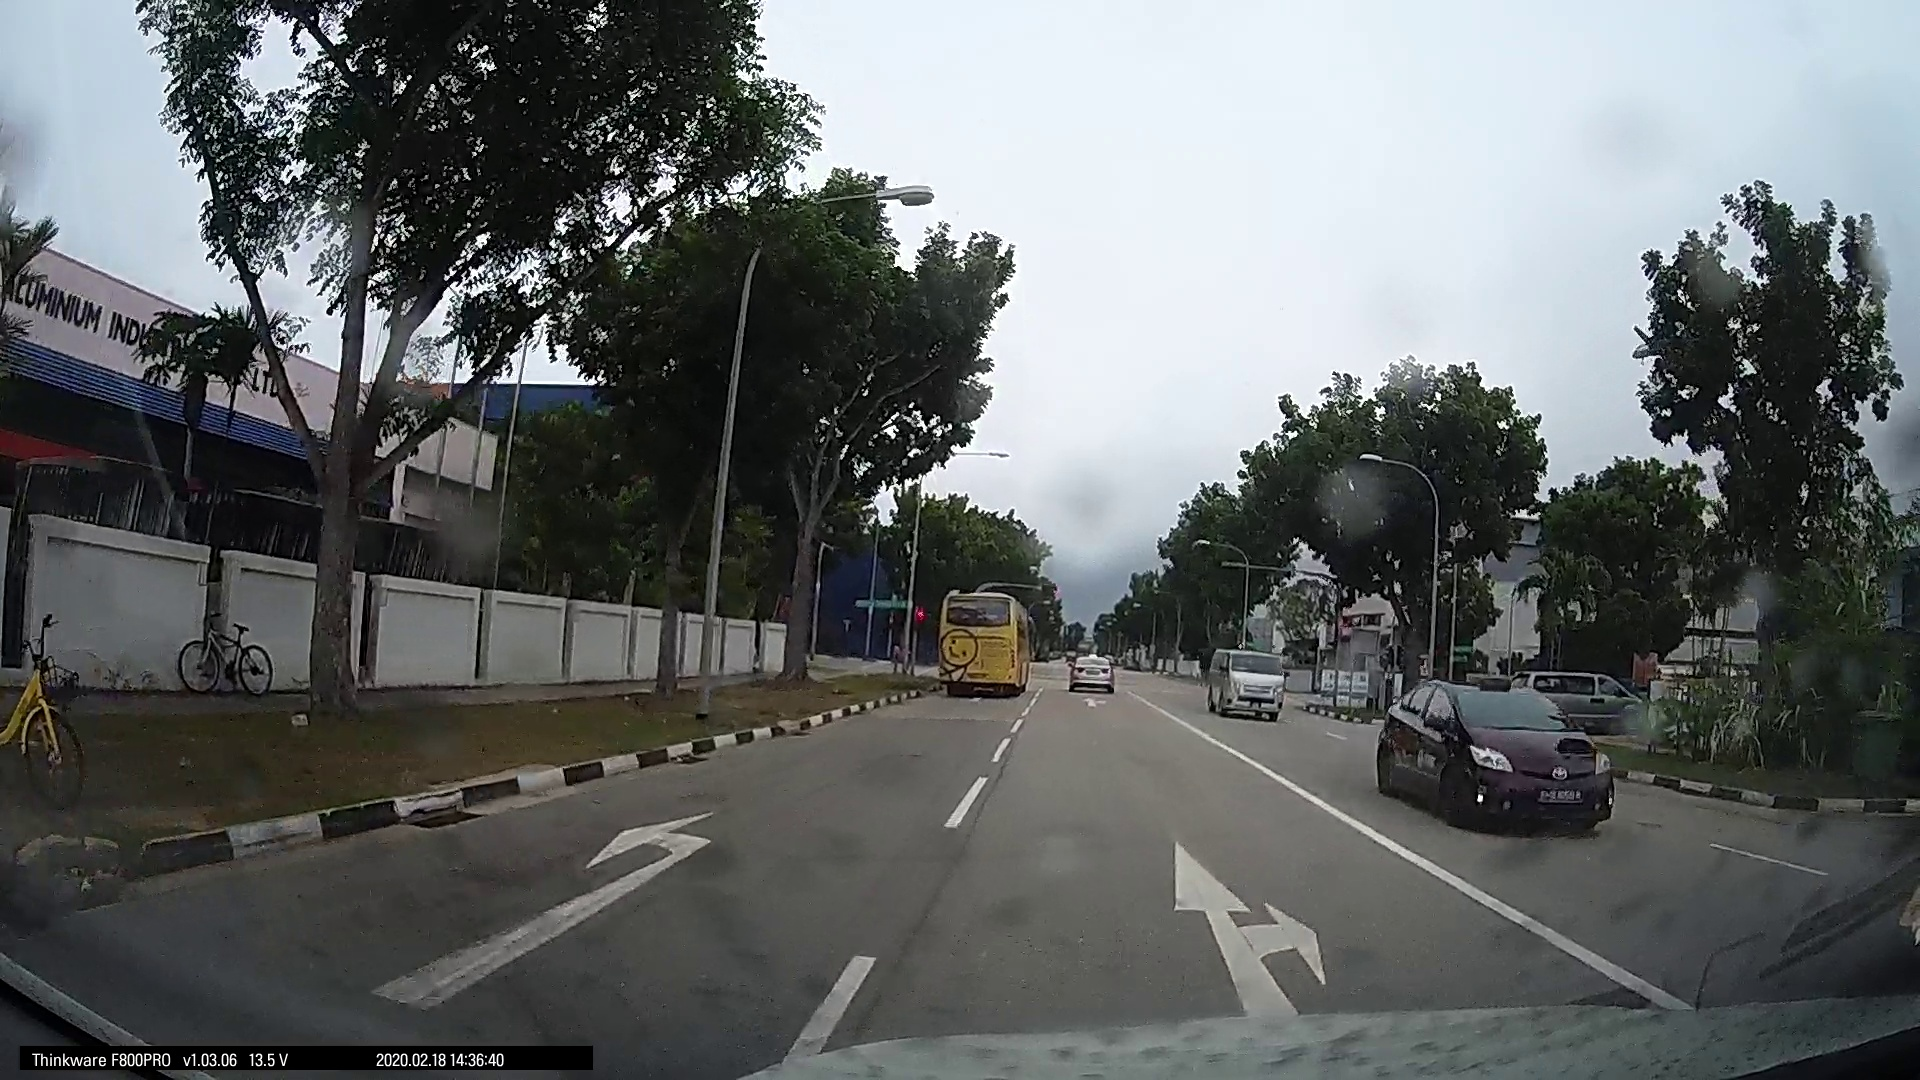Heavy Vehicle: (1706, 641, 1863, 742)
Light Vehicle: (980, 628, 1205, 857), (468, 601, 579, 669), (841, 646, 972, 699), (604, 626, 695, 674)
